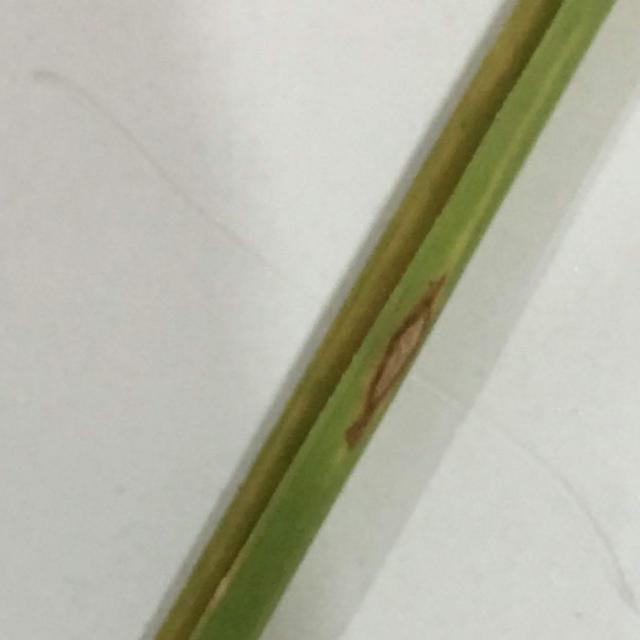Blast: (352, 346, 388, 426), (394, 308, 418, 374)
